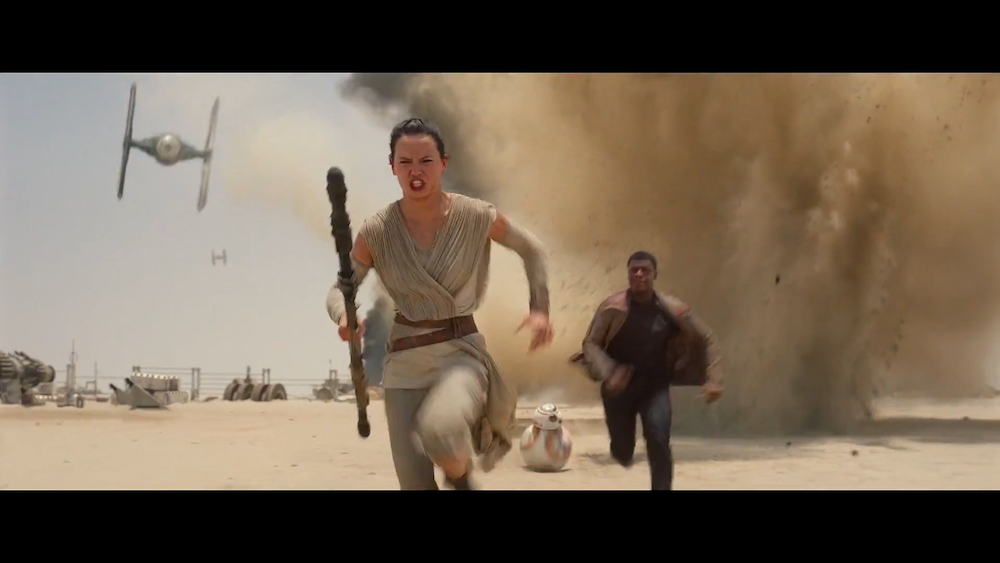Tie Fighter: (117, 84, 222, 212), (212, 250, 227, 268)
